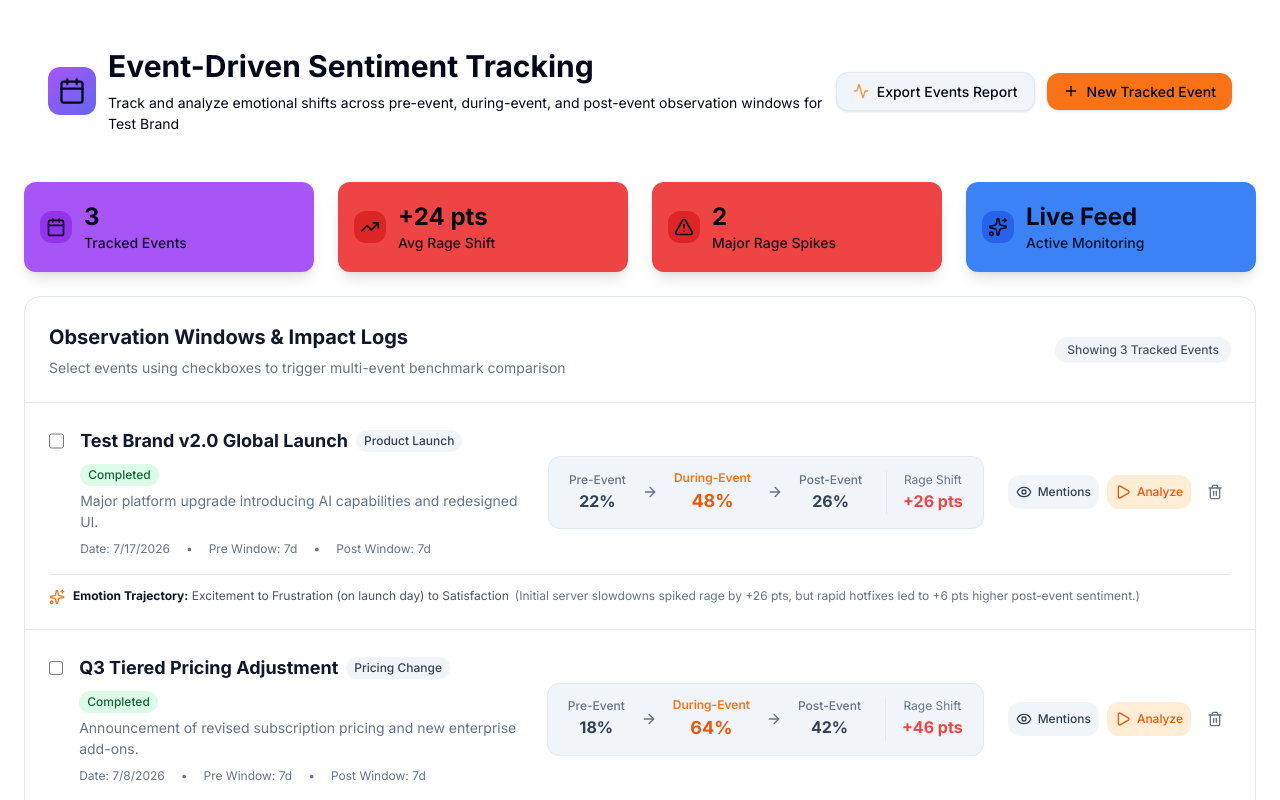
Reports & Events System › ReportsEvents Component › opens new event creation modal when button is clicked
What coordinates should you click on to do the following:
click the button "New Tracked Event"
I would click on:
 (1139, 91)
Its box is [1047,72,1232,110].
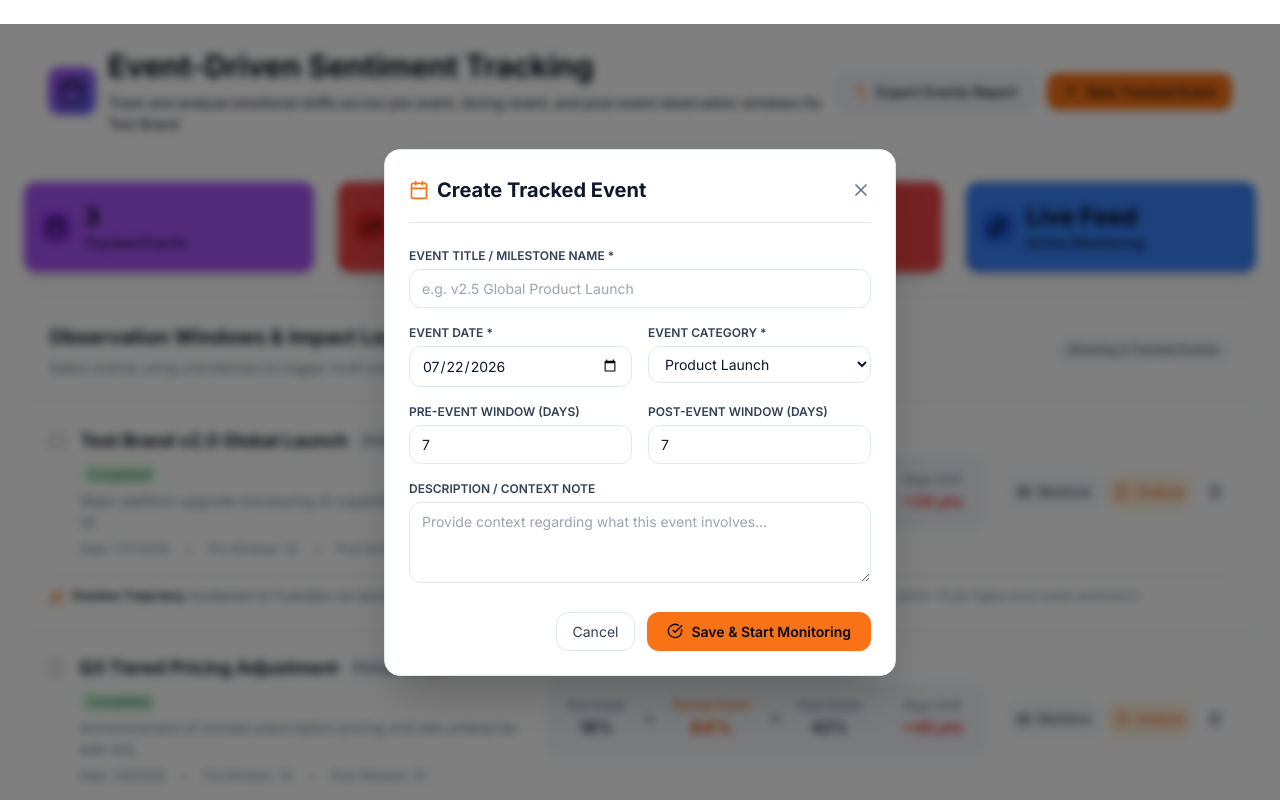
Check: the heading "Create Tracked Event" is shown, box [409,174,646,206]
Check: the field with placeholder "e.g. v2.5 Global Product Launch" is shown, box [409,268,871,308]
